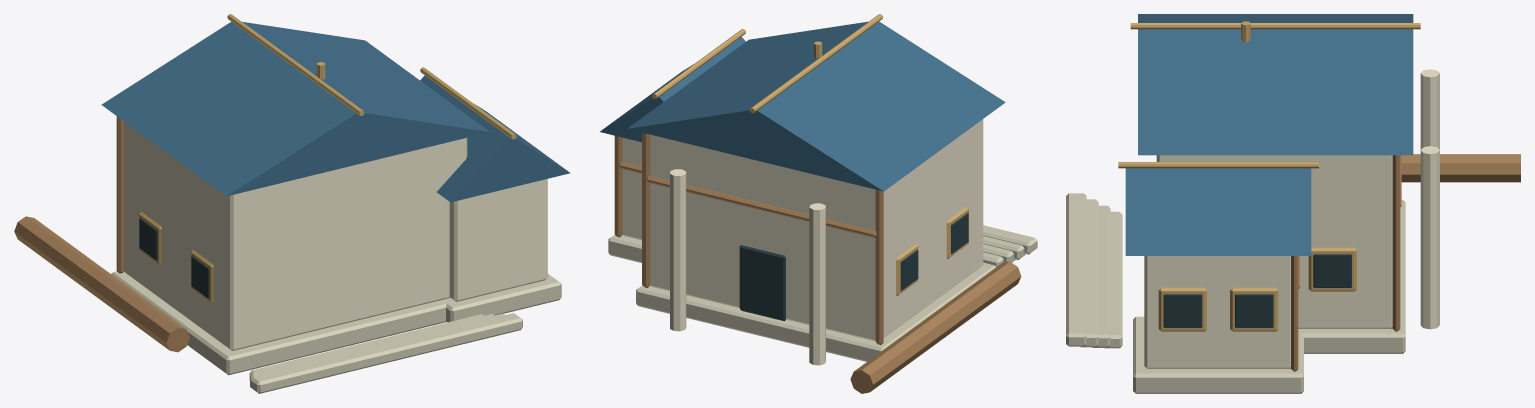
Rendered from level_25.glb.
The picture shows the model from 3 angles, left to right: view 1: azimuth 30°, elevation 25°; view 2: azimuth 150°, elevation 25°; view 3: azimuth 270°, elevation 25°; orthographic projection. The views are drawn at different scales.
Visible parts, largest first — view 1: timber_yard — level 25; view 2: timber_yard — level 25; view 3: timber_yard — level 25.
Boxes of the visible parts, box(x1,y1,x2,y2) form: timber_yard — level 25: box(14, 14, 570, 393); timber_yard — level 25: box(600, 14, 1037, 393); timber_yard — level 25: box(1066, 14, 1520, 393).
Bounding box in the file's own units: 6.43 × 4.01 × 6.12.
